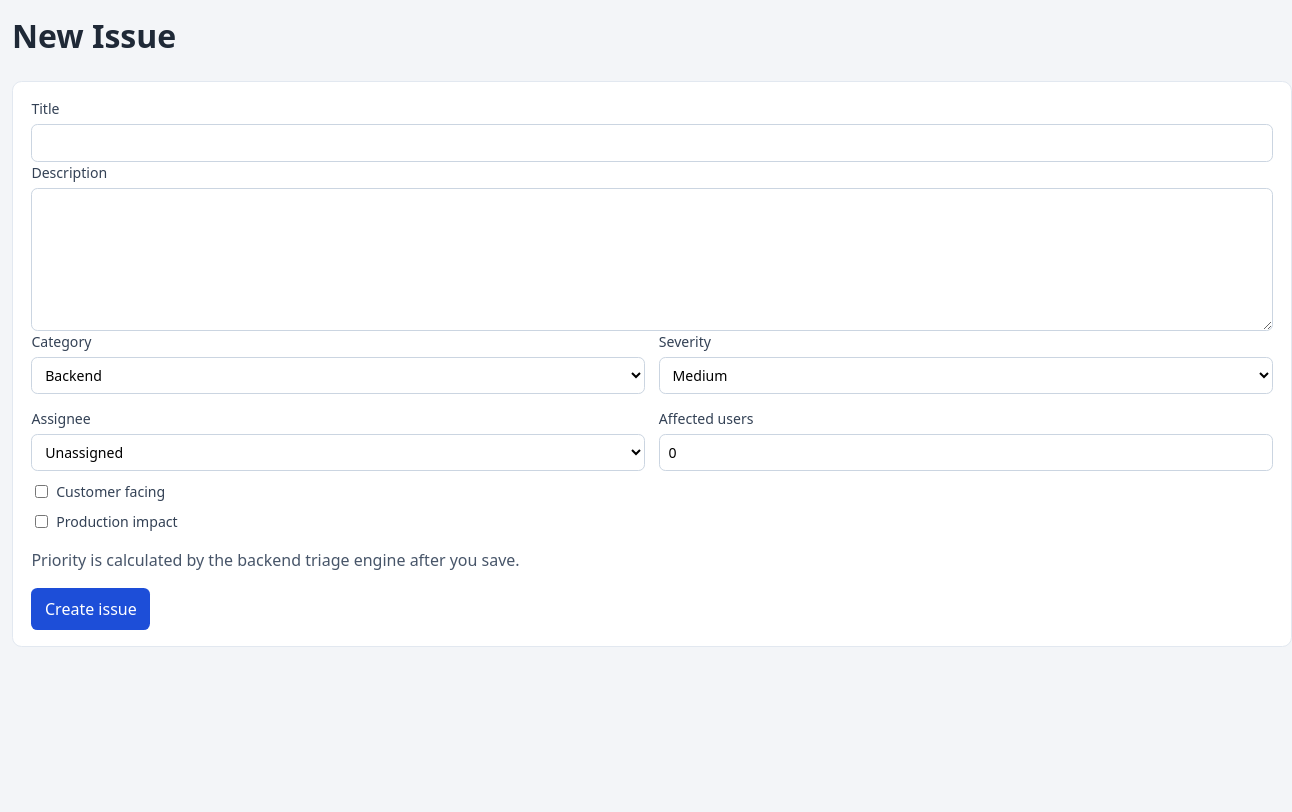
it: CreateIssuePage › shows validation messages when required fields are empty
Click the button "Create issue". click: click(91, 609)
box: [31,588,150,630]
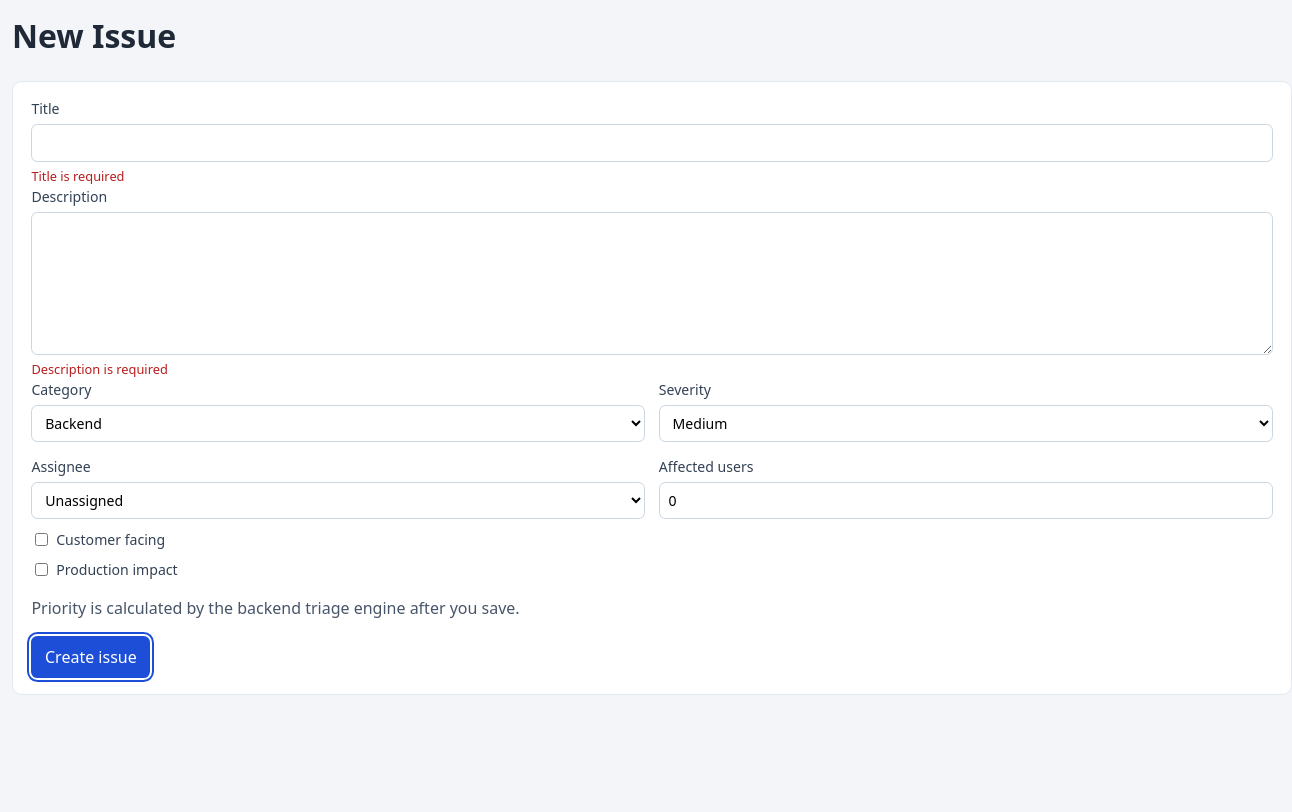
Result: the text "Title is required" is shown at [31,167,124,185]
Result: the text "Description is required" is shown at [31,360,168,378]
